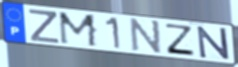1: (104, 17, 121, 50)
M: (57, 11, 99, 49)
N: (196, 25, 232, 61), (130, 18, 162, 57)
Z: (28, 8, 62, 45), (165, 22, 197, 57)
